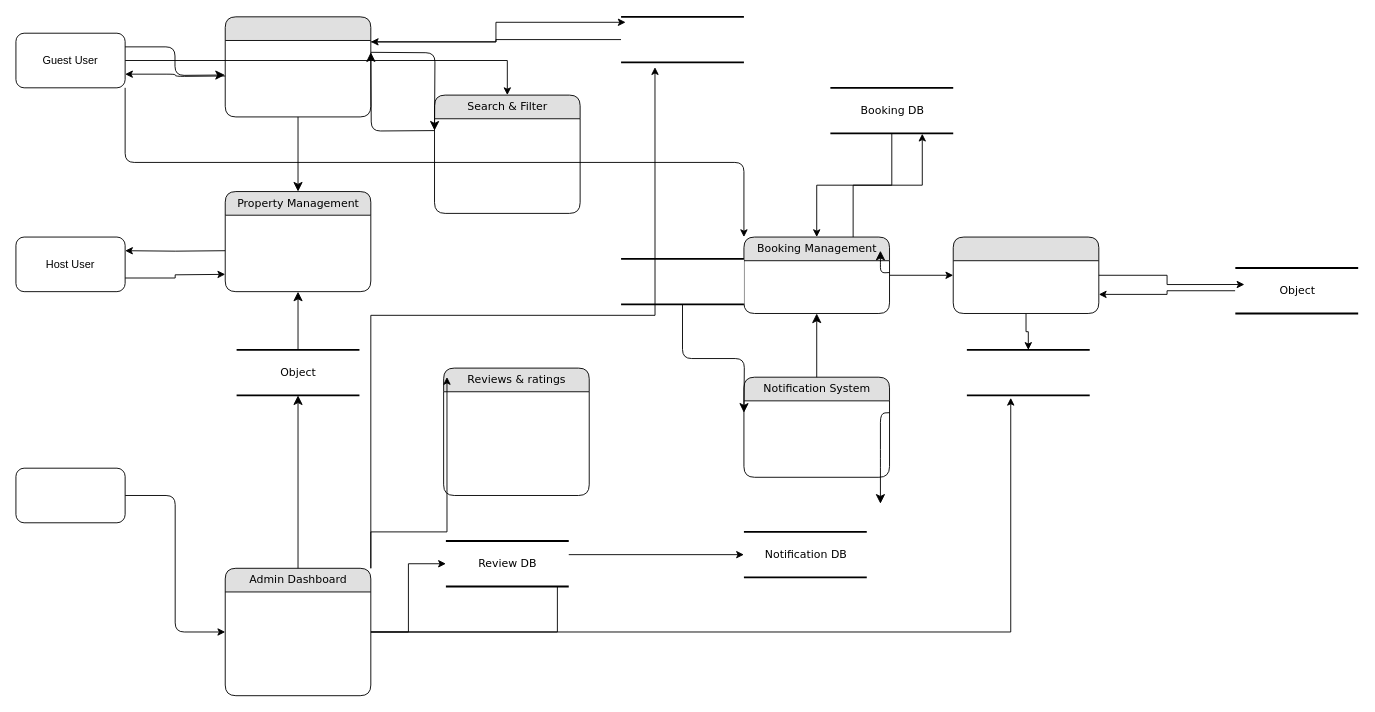
Some shapes in this 1375 by 712 pixel diagram are drawn without their labels. The centre of each missing label's shape, as x and y in pixels:
"Admin" goes at [70,495].
"Payment DB" goes at [1028,372].
"Payment Processing" goes at [1025,274].
"Property DB" goes at [682,281].
"User DB" goes at [682,39].
"User Management" goes at [297,66].
